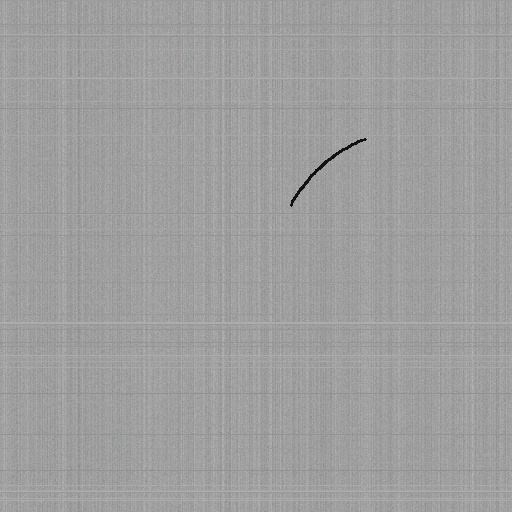scratch: (286, 134, 370, 210)
